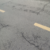others: (1, 8, 50, 32)
